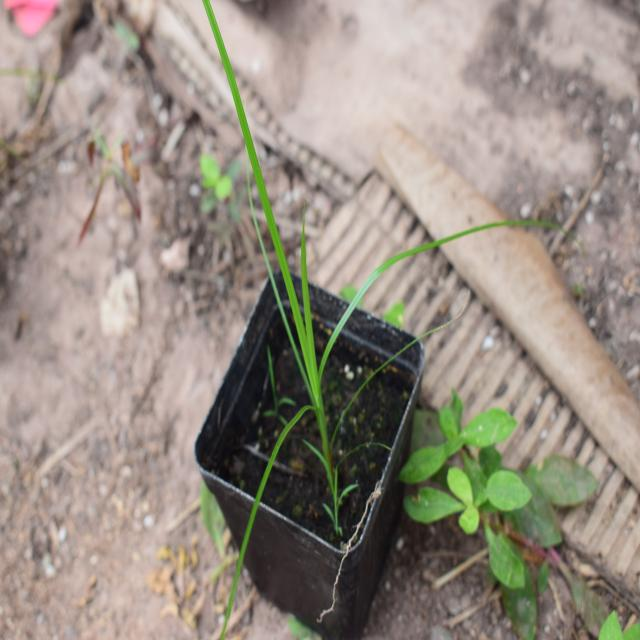sedge: (181, 16, 410, 509)
